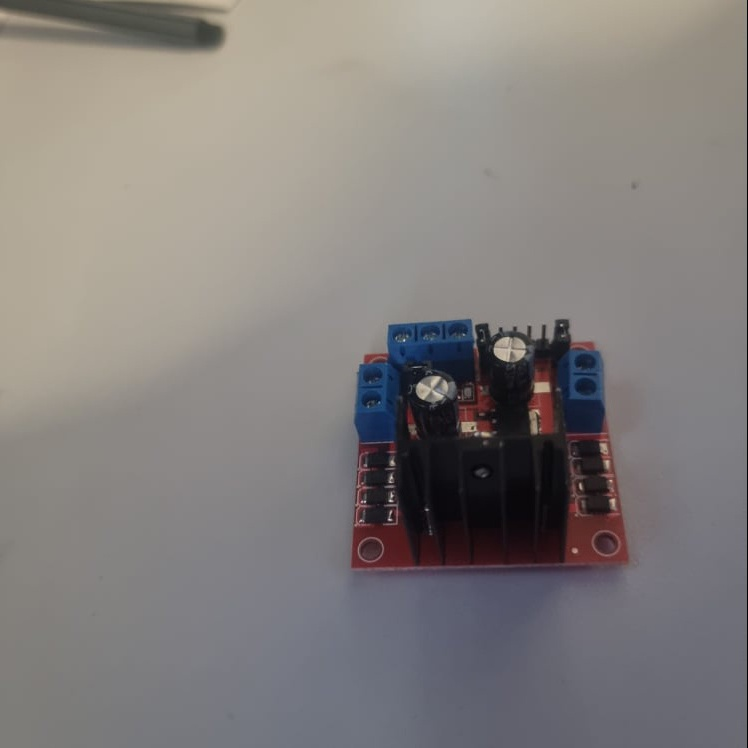MOTOR: (354, 312, 634, 575)
